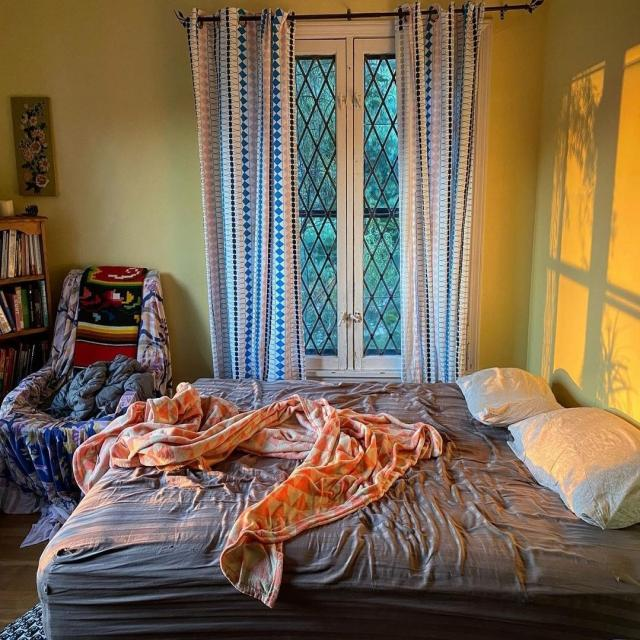bed: (12, 336, 639, 640)
